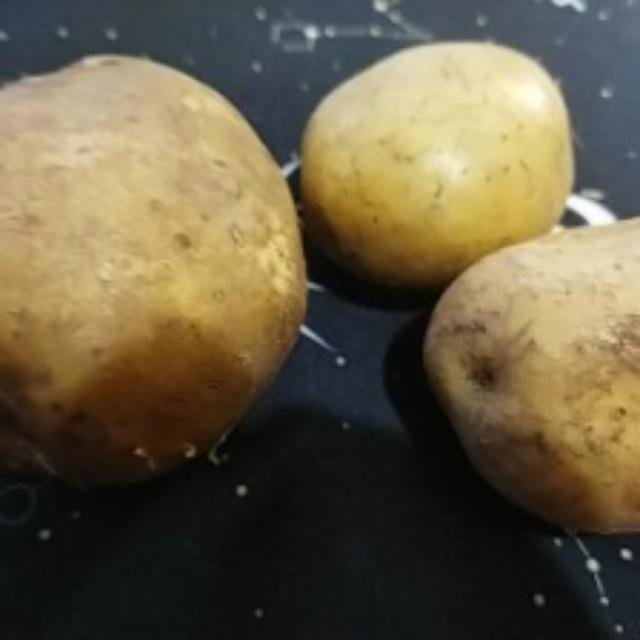Damaged potato: (1, 46, 310, 488), (422, 217, 640, 541)
Potato: (296, 40, 582, 292)
